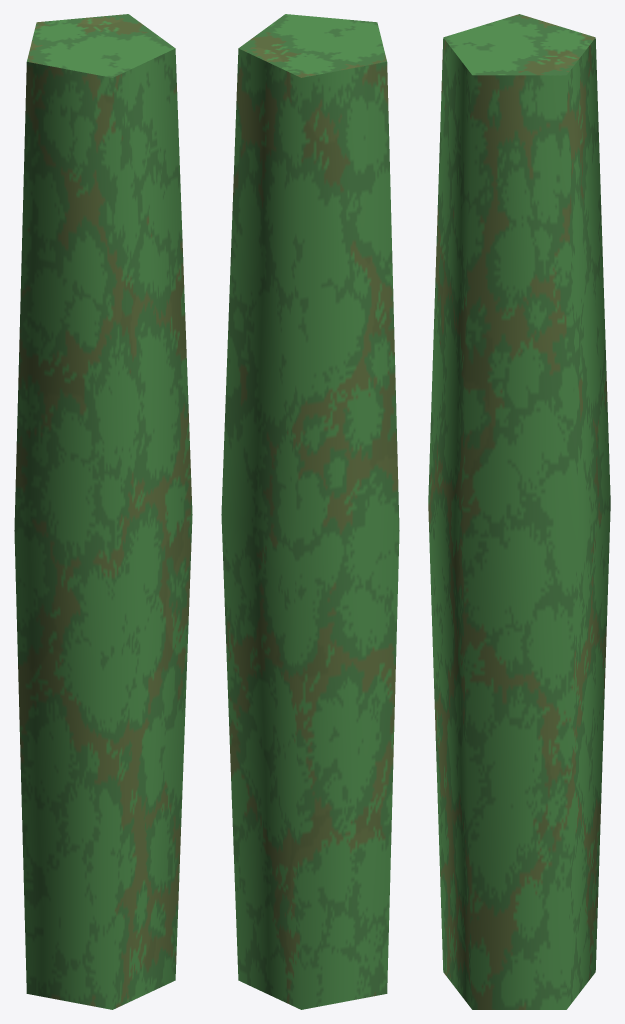
File: RootB.fbx
The picture shows the model from 3 angles, left to right: view 1: azimuth 30°, elevation 25°; view 2: azimuth 150°, elevation 25°; view 3: azimuth 270°, elevation 25°; orthographic projection.
Visible parts, largest first — view 1: RootB; view 2: RootB; view 3: RootB.
Part boxes in pixels (box(x1,y1,x2,y2)): RootB: box(14, 14, 192, 1009); RootB: box(221, 14, 399, 1009); RootB: box(428, 14, 610, 1009).
Bounding box in the file's own units: 512 × 3042 × 538.
